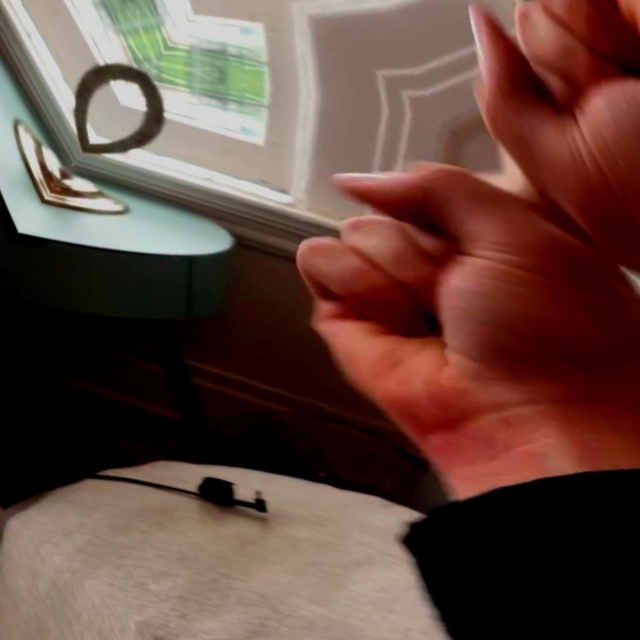Rock: (0, 0, 123, 109)
